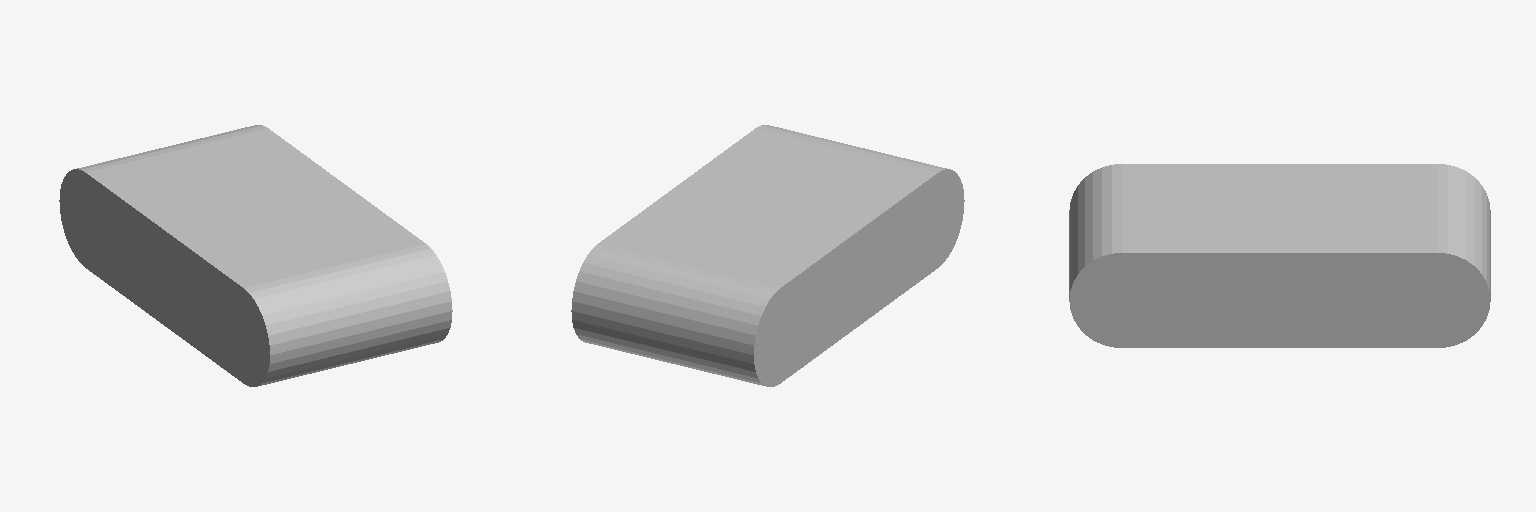
File: bodySegway.obj
3 renders of one model, left to right at view 1: azimuth 30°, elevation 25°; view 2: azimuth 150°, elevation 25°; view 3: azimuth 270°, elevation 25°, orthographic.
Size of the model in its own units: 0.2 by 0.1 by 0.4.